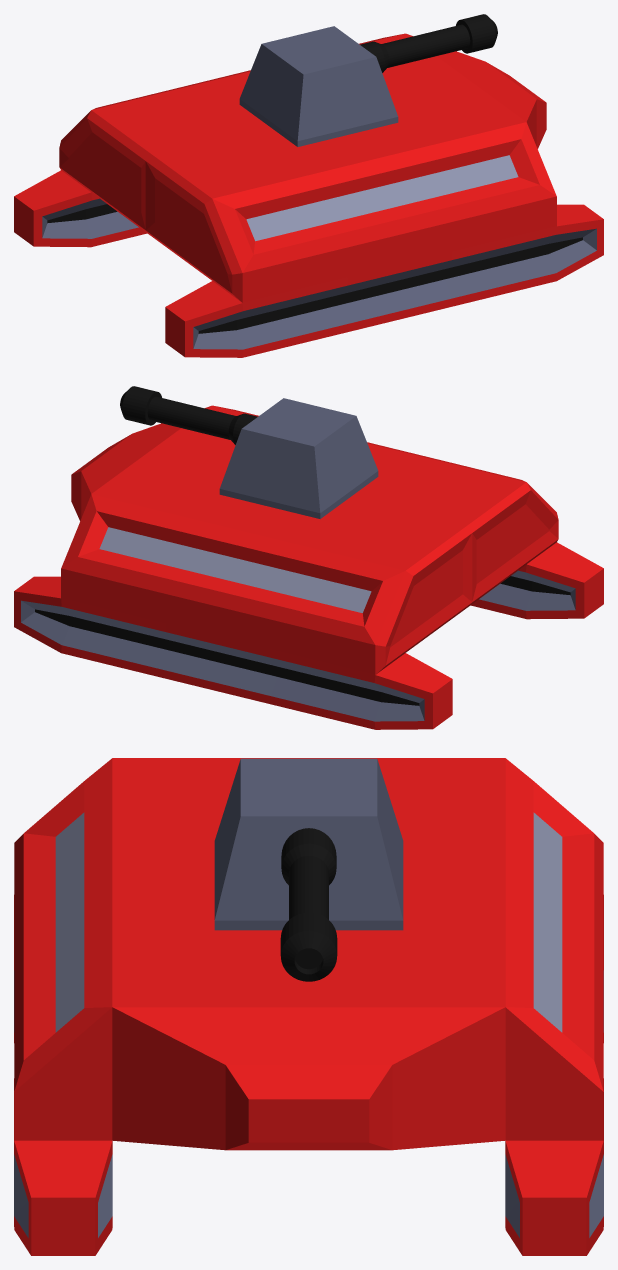
File: RedTank.fbx
3 views of the same model, one above another, from view 1: azimuth 30°, elevation 25°; view 2: azimuth 150°, elevation 25°; view 3: azimuth 270°, elevation 25° (orthographic). The views are drawn at different scales.
Parts seen in each view (by area): view 1: TankBody, Turret; view 2: TankBody, Turret; view 3: TankBody, Turret.
Boxes of the visible parts, x1,y1,x2,y2 form: TankBody: (14, 33, 603, 357); Turret: (239, 14, 497, 146); TankBody: (14, 405, 603, 729); Turret: (120, 386, 378, 518); TankBody: (14, 758, 603, 1255); Turret: (214, 758, 403, 981).
Size of the model in its own units: 600 by 818 by 366.
